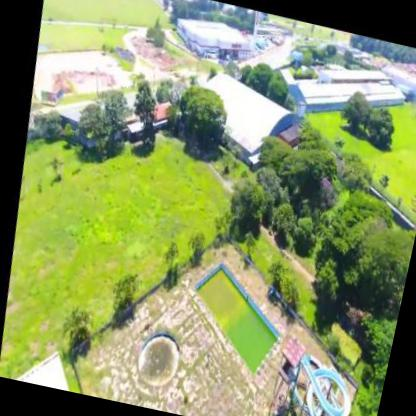agua: (184, 267, 249, 328), (125, 327, 178, 386), (218, 320, 272, 366)
